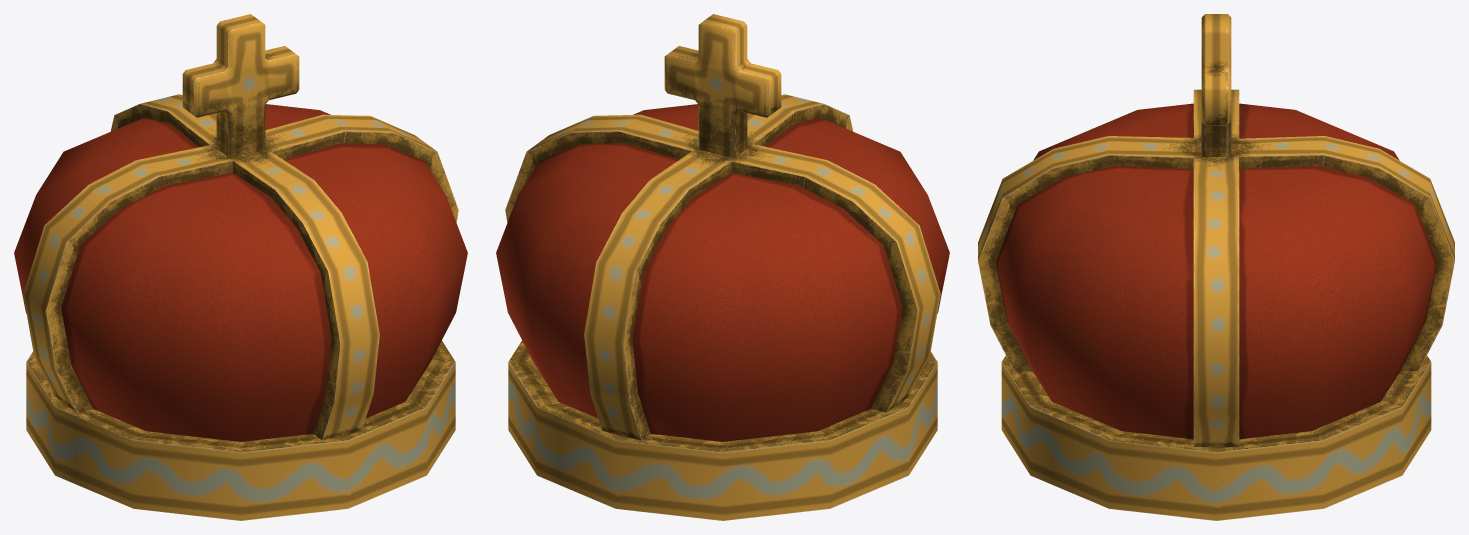
The model's file is env_crown-000.fbx.
3 views of the same model, side by side, from view 1: azimuth 30°, elevation 25°; view 2: azimuth 150°, elevation 25°; view 3: azimuth 270°, elevation 25° (orthographic).
Visible parts, largest first — view 1: body.008; view 2: body.008; view 3: body.008.
Boxes of the visible parts, x1,y1,x2,y2 form: body.008: [14, 14, 467, 520]; body.008: [496, 14, 949, 520]; body.008: [978, 14, 1454, 520].
Bounding box in the file's own units: 126 × 119 × 126.
1 material, 1 textured.
